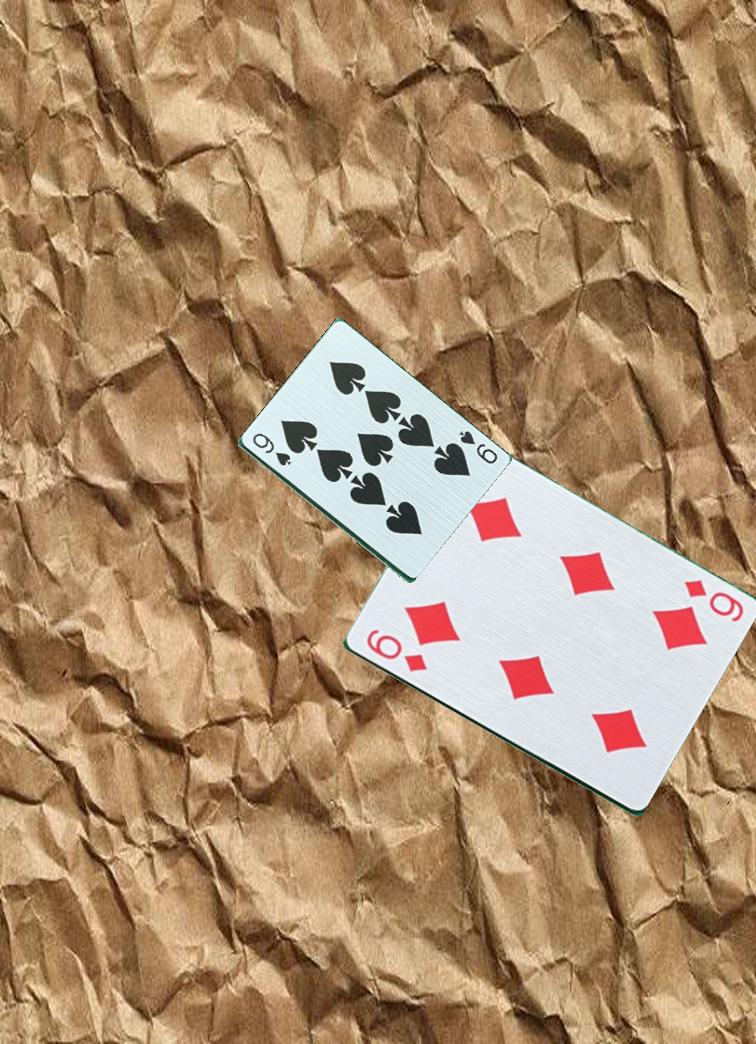6d: (362, 625, 430, 677), (680, 576, 750, 626)
9s: (248, 429, 294, 469), (455, 427, 500, 467)
